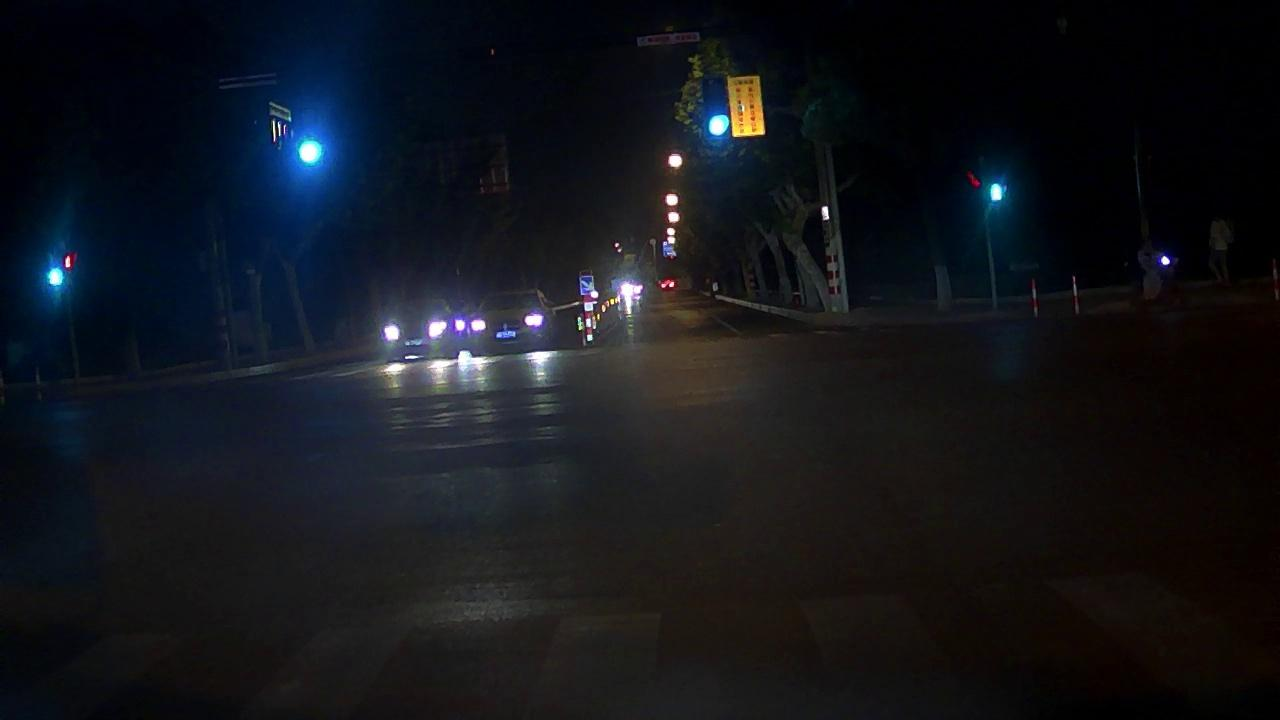traffic_light: (290, 128, 332, 171), (703, 109, 732, 142)
